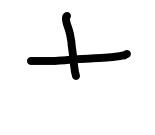plus: (27, 12, 131, 80)
